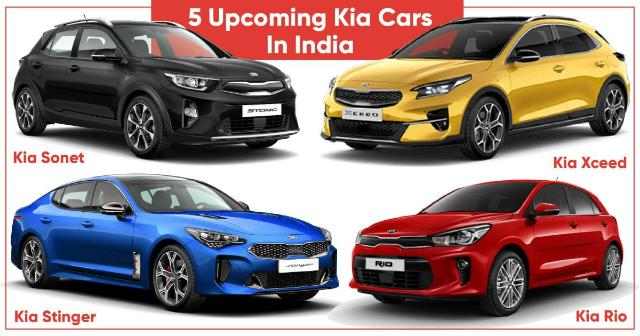kia: (11, 173, 340, 311), (320, 15, 630, 160), (12, 14, 300, 160), (348, 179, 624, 315)
